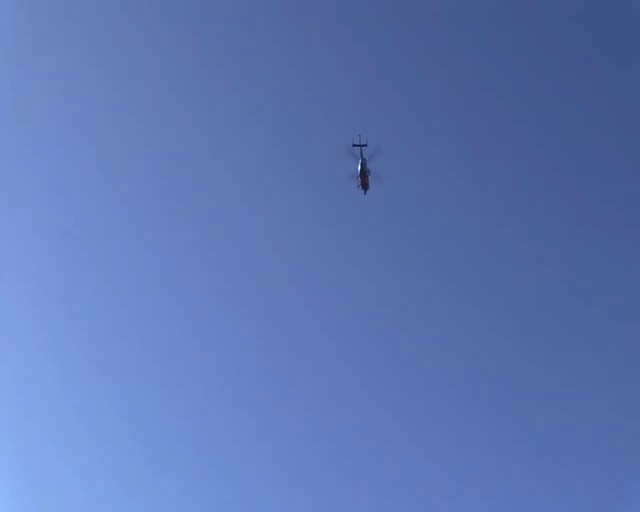HELICOPTER: (344, 132, 386, 196)
